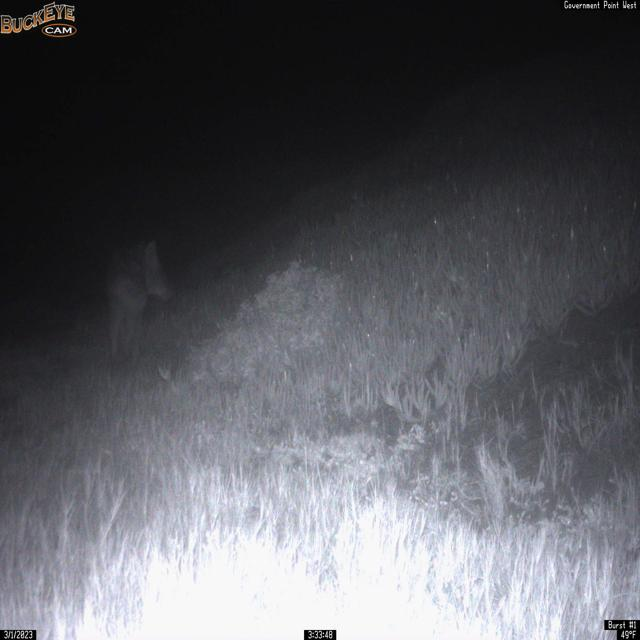coyote: (104, 238, 175, 364)
